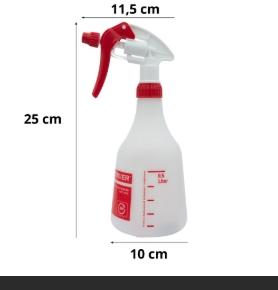PULVERISATEUR: (70, 0, 239, 250)
